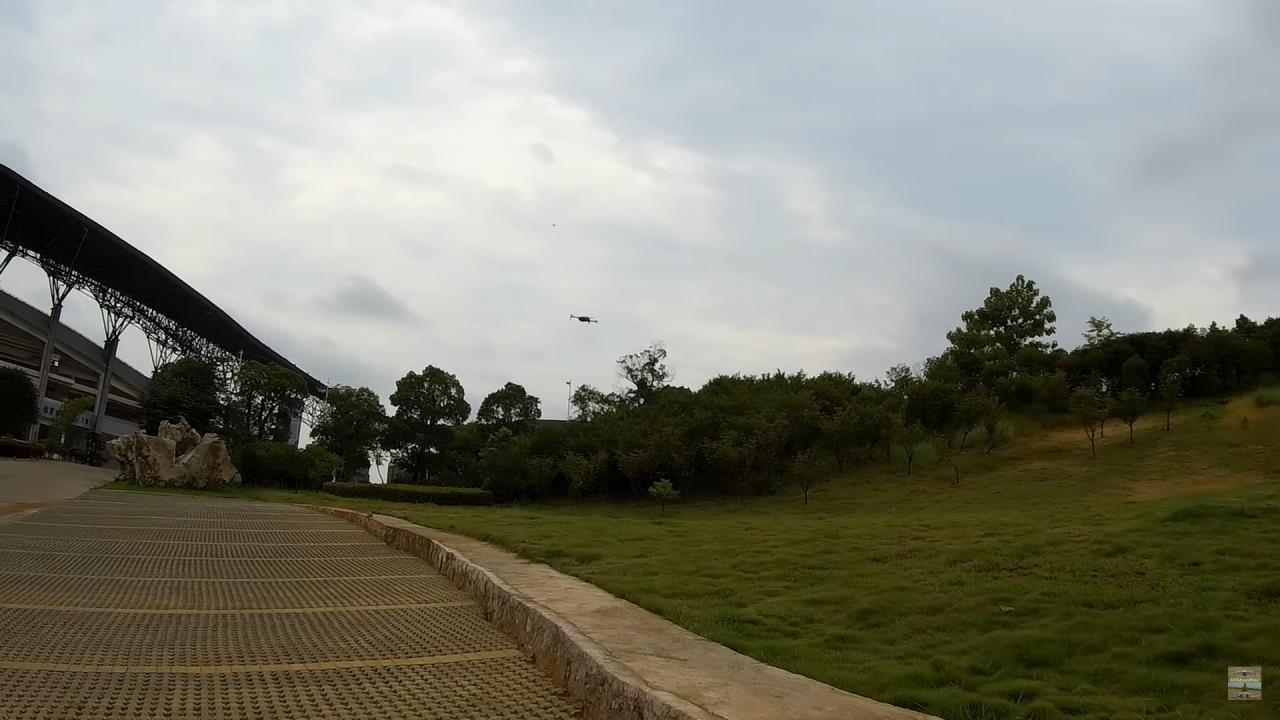Drone: (565, 310, 602, 328)
